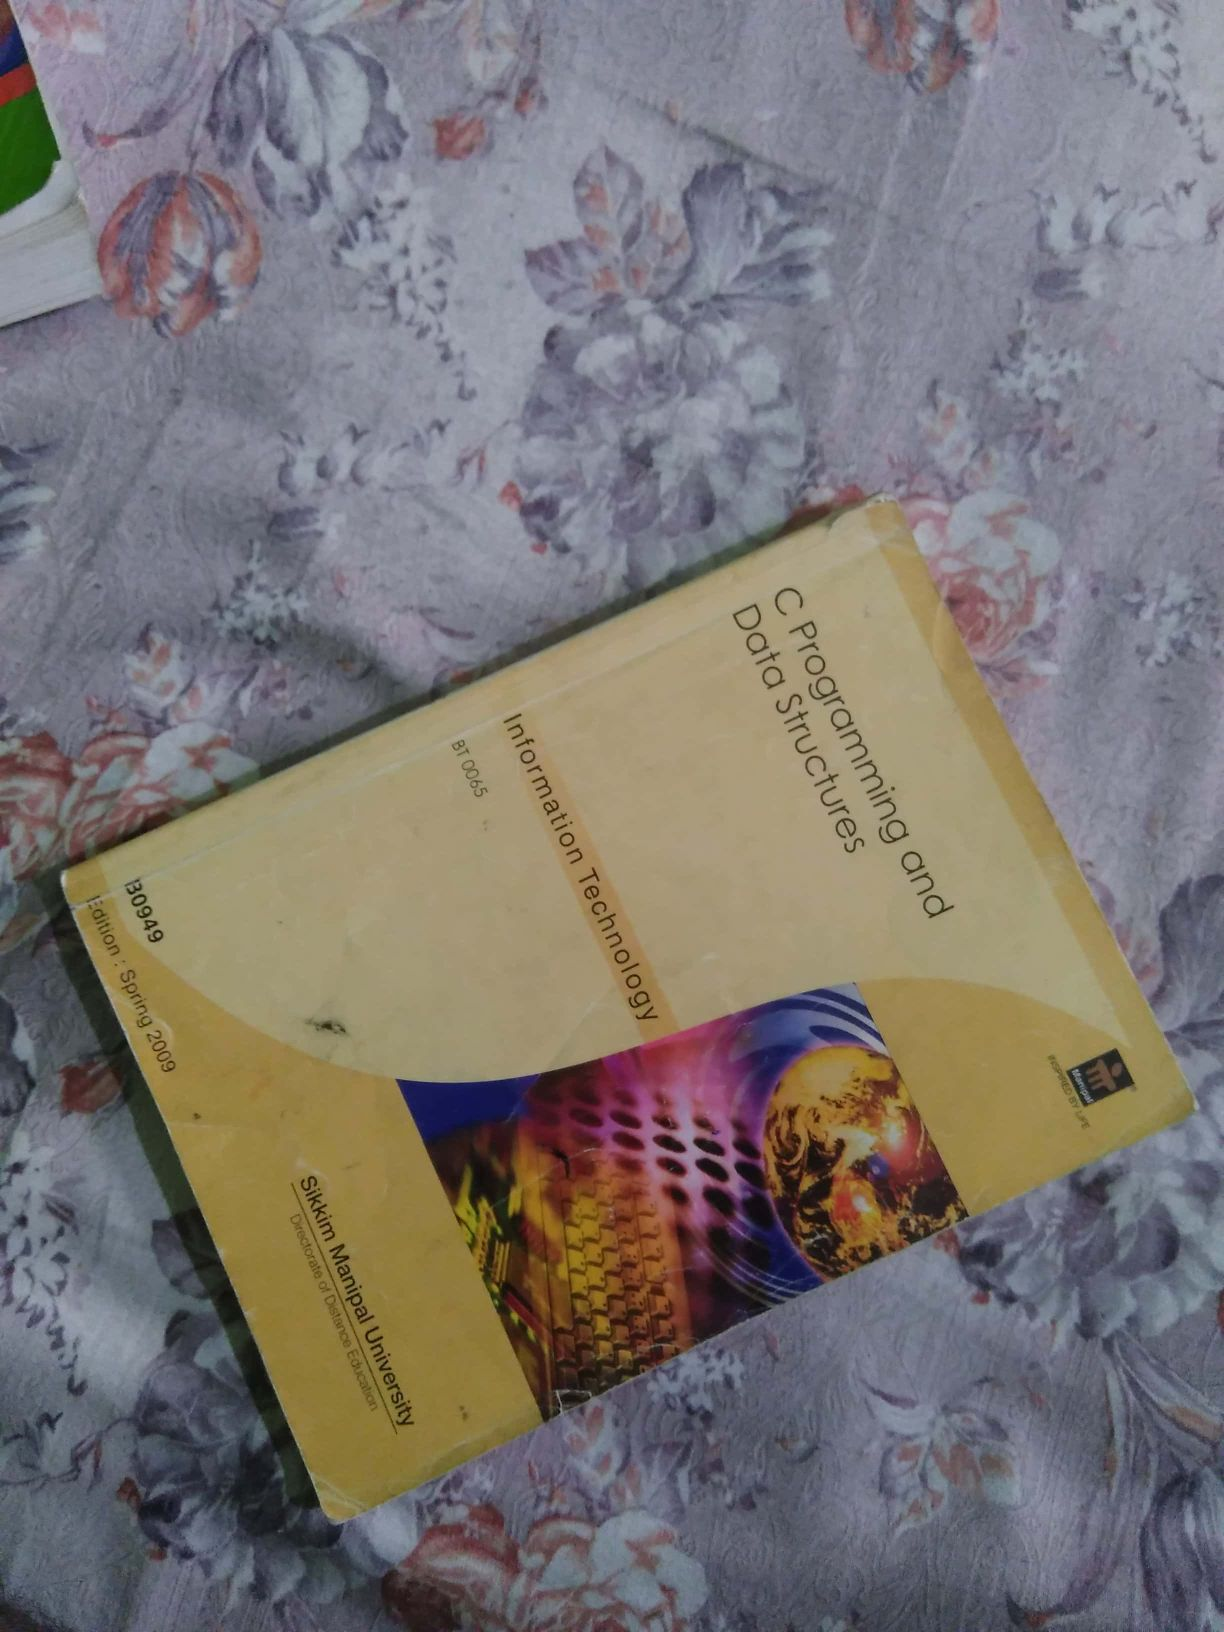clang: (96, 522, 1151, 1495)
